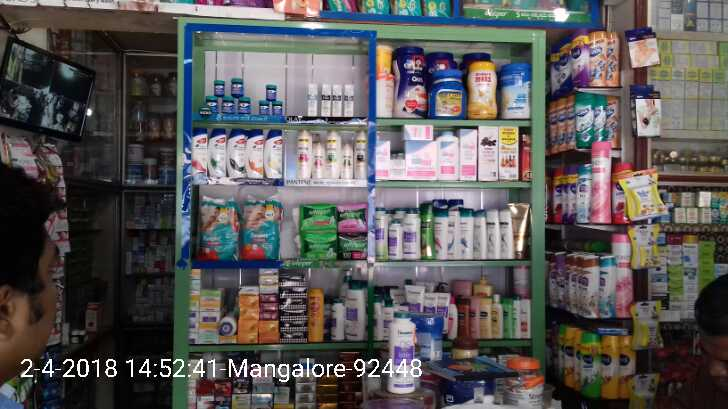vicks: (203, 79, 252, 112), (259, 82, 283, 114)
